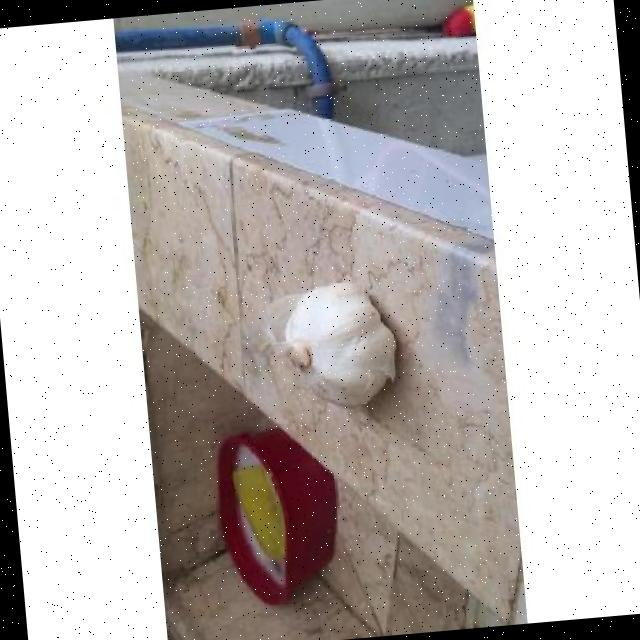garlic: (270, 281, 393, 406)
